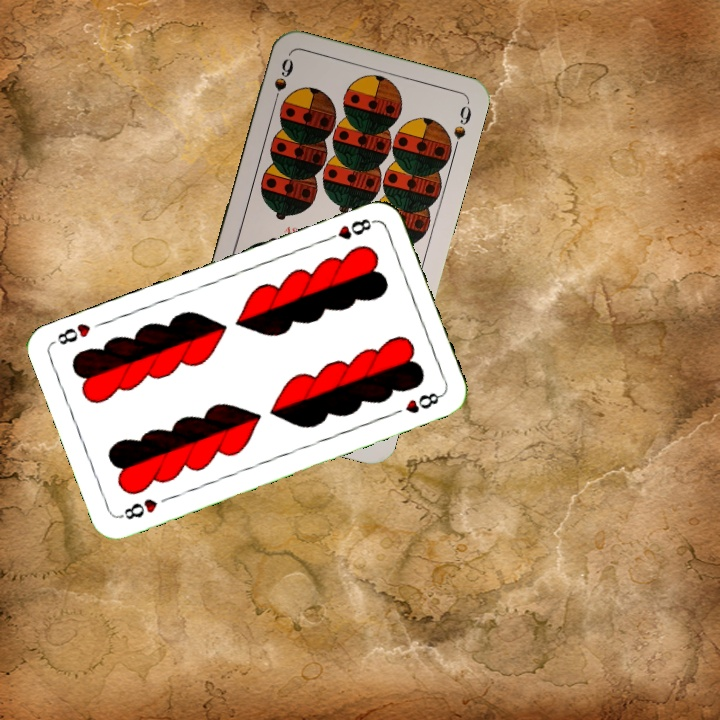H8: (321, 214, 378, 244), (116, 494, 161, 522)
S9: (268, 54, 296, 111)
